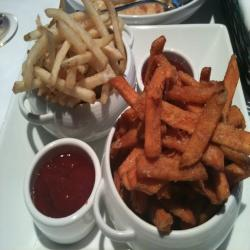fries: (108, 78, 246, 233), (12, 6, 134, 108)
ketchup: (26, 140, 105, 240), (130, 44, 213, 105)
